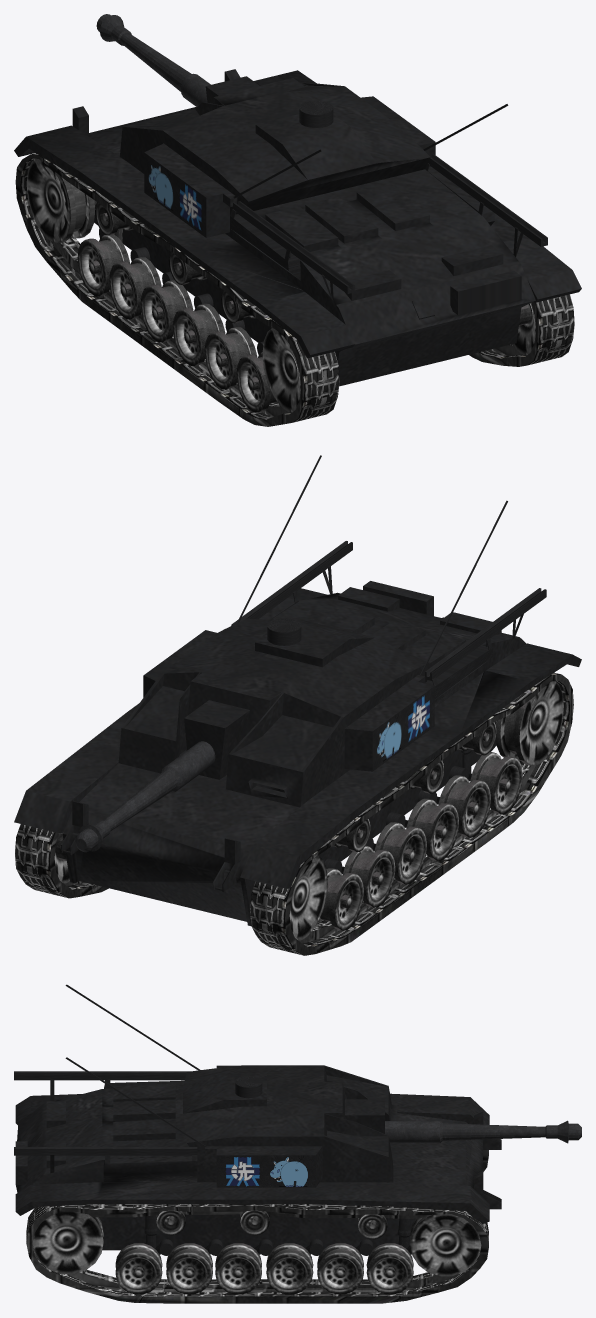
The model's file is sangou.FBX.
The picture shows the model from 3 angles, top to bottom: view 1: azimuth 30°, elevation 25°; view 2: azimuth 150°, elevation 25°; view 3: azimuth 270°, elevation 25°; orthographic projection. The views are drawn at different scales.
Visible parts, largest first — view 1: Tank1, RightCaterpillar, RightBig1, LeftCaterpillar, Cylinder001, RightBig2, RightSmall4, RightSmall3, RightSmall5, RightSmall2, RightSmall1, RightPillar (+7 smaller); view 2: Tank1, RightCaterpillar, RightBig2, Cylinder001, LeftCaterpillar, RightBig1, RightSmall4, RightSmall5, RightSmall6, RightSmall3, RightSmall2, RightSmall1 (+4 smaller); view 3: Tank1, LeftCaterpillar, LeftBig1, LeftBig2, Cylinder001, LeftSmall1, LeftSmall3, LeftSmall6, LeftSmall4, LeftSmall2, LeftSmall5, RightPillar (+5 smaller).
Part boxes in pixels (box(x1,y1,x2,y2)): Tank1: box(14, 69, 581, 386); RightCaterpillar: box(15, 153, 339, 426); RightBig1: box(26, 158, 96, 242); LeftCaterpillar: box(469, 294, 574, 366); Cylinder001: box(96, 14, 210, 106); RightBig2: box(262, 328, 300, 412); RightSmall4: box(173, 303, 225, 365); RightSmall3: box(140, 280, 193, 342); RightSmall5: box(204, 327, 257, 389); RightSmall2: box(109, 257, 161, 319); RightSmall1: box(77, 234, 130, 296); RightPillar: box(233, 201, 354, 293); Tank1: box(14, 565, 581, 925); RightCaterpillar: box(250, 672, 573, 955); RightBig2: box(495, 681, 563, 765); Cylinder001: box(75, 741, 215, 852); LeftCaterpillar: box(15, 824, 108, 898); RightBig1: box(289, 855, 327, 940); RightSmall4: box(406, 798, 458, 860); RightSmall5: box(438, 775, 490, 837); RightSmall6: box(470, 752, 522, 814); RightSmall3: box(374, 822, 426, 884); RightSmall2: box(342, 845, 395, 907); RightSmall1: box(318, 868, 363, 930); Tank1: box(15, 1065, 501, 1250); LeftCaterpillar: box(26, 1204, 488, 1303); LeftBig1: box(410, 1214, 481, 1276); LeftBig2: box(32, 1212, 103, 1273); Cylinder001: box(385, 1120, 581, 1143); LeftSmall1: box(366, 1243, 413, 1294); LeftSmall3: box(266, 1243, 313, 1294); LeftSmall6: box(115, 1243, 162, 1294); LeftSmall4: box(215, 1243, 261, 1294); LeftSmall2: box(317, 1243, 363, 1294); LeftSmall5: box(166, 1243, 212, 1294); RightPillar: box(14, 1071, 189, 1080).
Bounding box in the file's own units: 2.16 × 2.18 × 4.89.
47 materials, 47 textured.
